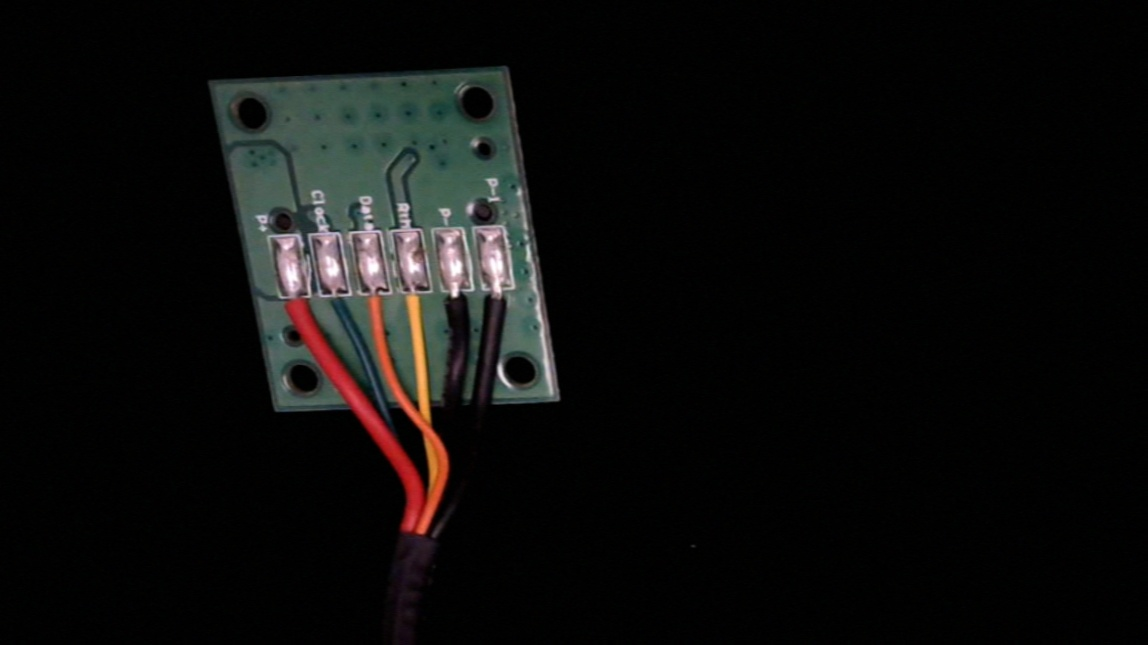Black: (440, 280, 480, 346)
Black1: (480, 277, 521, 340)
Green: (317, 282, 358, 338)
Orange: (358, 283, 395, 329)
Red: (279, 287, 320, 346)
Yellow: (394, 280, 439, 341)
